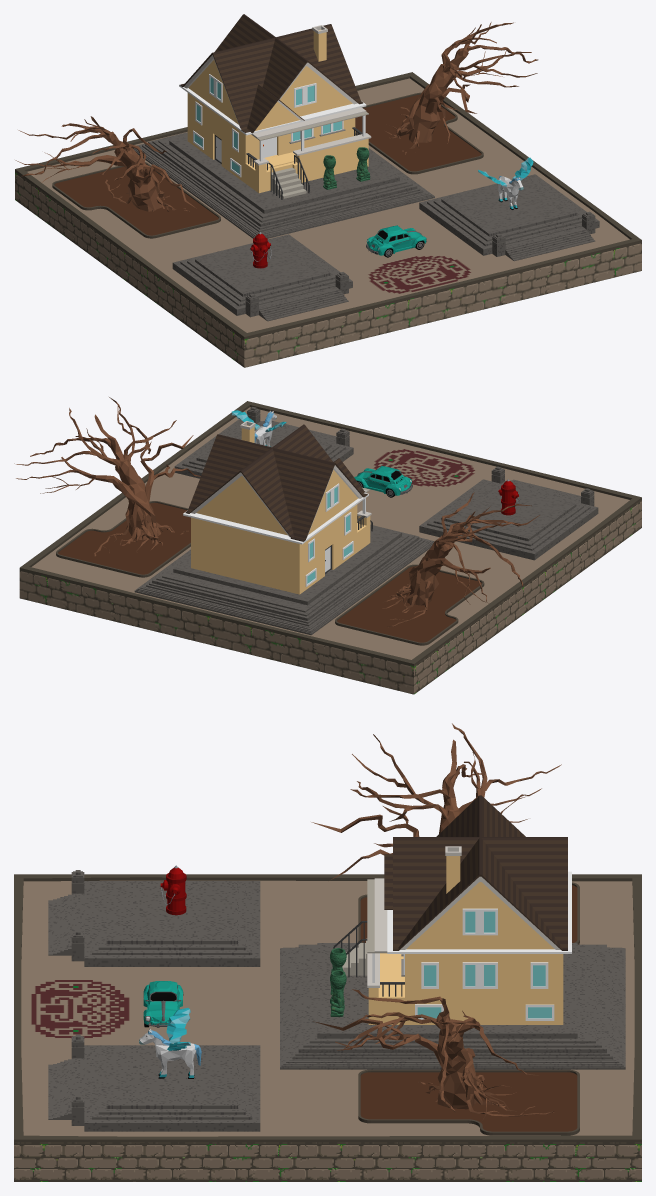
The picture shows the model from 3 angles, top to bottom: view 1: azimuth 30°, elevation 25°; view 2: azimuth 150°, elevation 25°; view 3: azimuth 270°, elevation 25°; orthographic projection. The views are drawn at different scales.
Parts seen in each view (by area): view 1: Cube.011, Cube.235, VEHICLES_VOLKSWAGEN, ANIMAL_PEGASO, OBJRANDOM_FIRE_HYDRANT; view 2: Cube.011, Cube.235, VEHICLES_VOLKSWAGEN, ANIMAL_PEGASO, OBJRANDOM_FIRE_HYDRANT; view 3: Cube.011, Cube.235, ANIMAL_PEGASO, VEHICLES_VOLKSWAGEN, OBJRANDOM_FIRE_HYDRANT.
Part boxes in pixels (left/top/right/bottom): Cube.011: left=15, top=22, right=641, bottom=367; Cube.235: left=179, top=14, right=371, bottom=199; VEHICLES_VOLKSWAGEN: left=366, top=225, right=426, bottom=257; ANIMAL_PEGASO: left=478, top=157, right=533, bottom=209; OBJRANDOM_FIRE_HYDRANT: left=250, top=232, right=271, bottom=268; Cube.011: left=14, top=397, right=641, bottom=694; Cube.235: left=183, top=421, right=372, bottom=594; VEHICLES_VOLKSWAGEN: left=354, top=466, right=412, bottom=497; ANIMAL_PEGASO: left=231, top=410, right=286, bottom=446; OBJRANDOM_FIRE_HYDRANT: left=498, top=479, right=519, bottom=515; Cube.011: left=14, top=723, right=641, bottom=1181; Cube.235: left=333, top=795, right=571, bottom=1024; ANIMAL_PEGASO: left=139, top=1008, right=201, bottom=1078; VEHICLES_VOLKSWAGEN: left=143, top=981, right=183, bottom=1027; OBJRANDOM_FIRE_HYDRANT: left=160, top=865, right=186, bottom=915.
Bounding box in the file's own units: 5099 × 1610 × 4000.
Materials: 35 (6 with a texture image).
